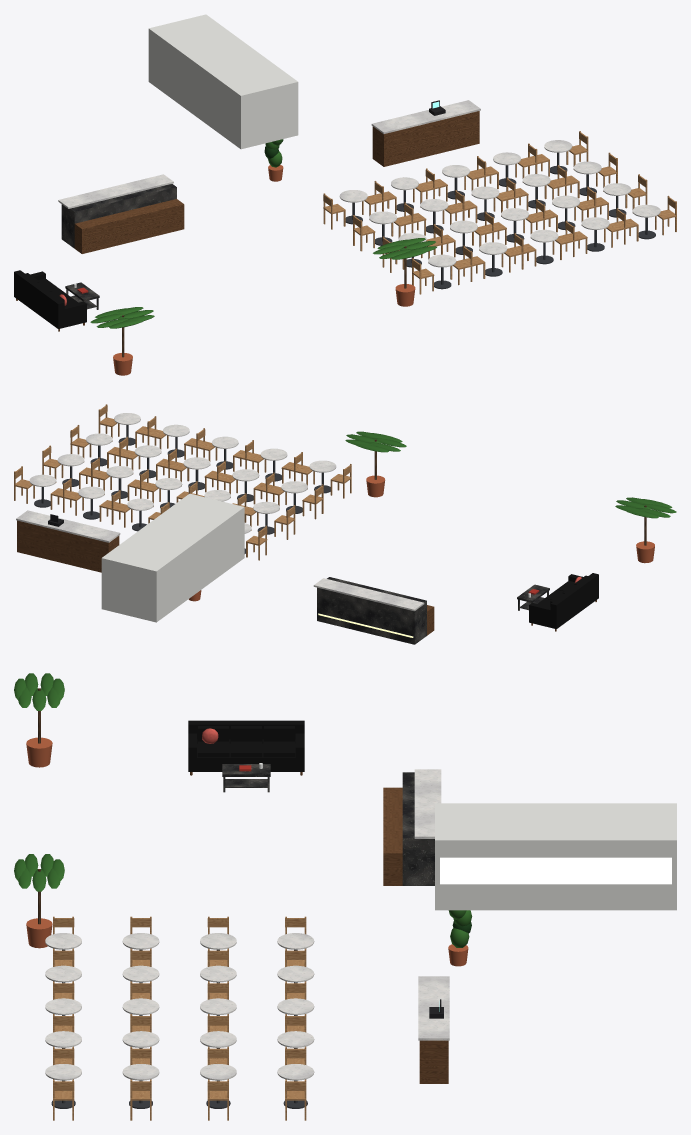
Rendered from i_hyperloop_station.gltf.
3 views of the same model, one above another, from view 1: azimuth 30°, elevation 25°; view 2: azimuth 150°, elevation 25°; view 3: azimuth 270°, elevation 25° (orthographic). The views are drawn at different scales.
Parts seen in each view (by area): view 1: I_hyperloop_station; view 2: I_hyperloop_station; view 3: I_hyperloop_station.
Part boxes in pixels (box(x1,y1,x2,y2)): I_hyperloop_station: box(14, 14, 676, 375); I_hyperloop_station: box(14, 404, 676, 644); I_hyperloop_station: box(14, 673, 676, 1120).
Size of the model in its own units: 18.41 by 3 by 13.71.
19 materials, 6 textured.
